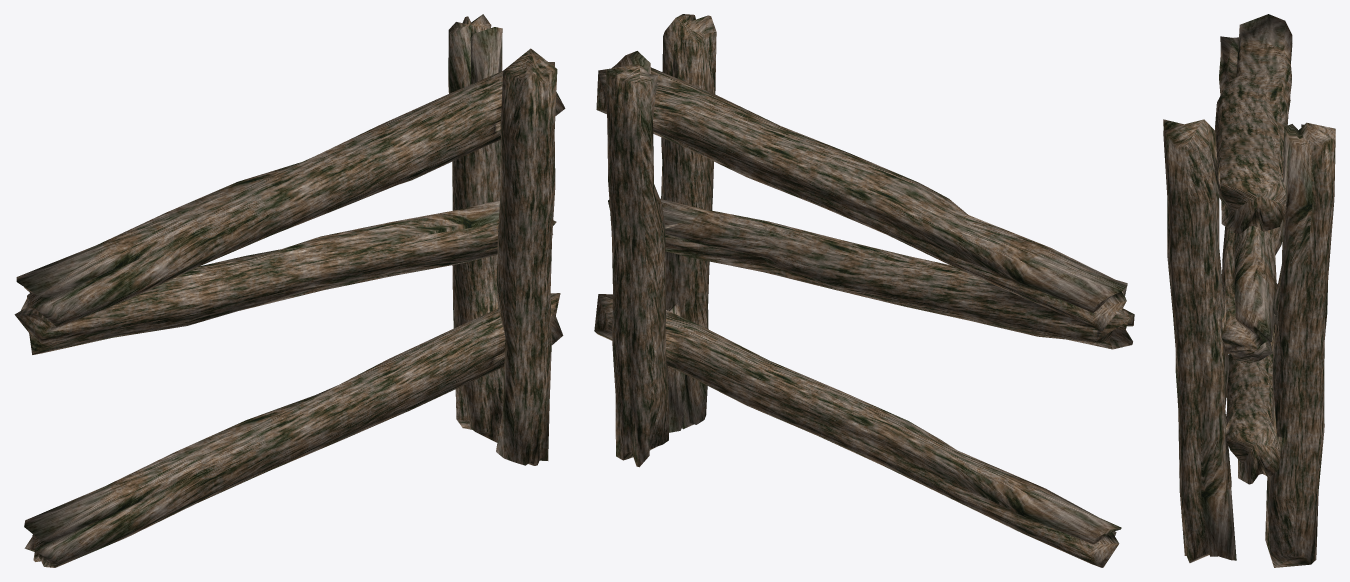
The model's file is Bark_Fence3_OneMesh.fbx.
3 views of the same model, side by side, from view 1: azimuth 30°, elevation 25°; view 2: azimuth 150°, elevation 25°; view 3: azimuth 270°, elevation 25° (orthographic). The views are drawn at different scales.
Visible parts, largest first — view 1: Cube.000; view 2: Cube.000; view 3: Cube.000.
Part boxes in pixels (<box>): Cube.000: <box>14,14,565,567</box>; Cube.000: <box>594,14,1134,567</box>; Cube.000: <box>1163,14,1335,567</box>.
Size of the model in its own units: 551 by 412 by 142.
